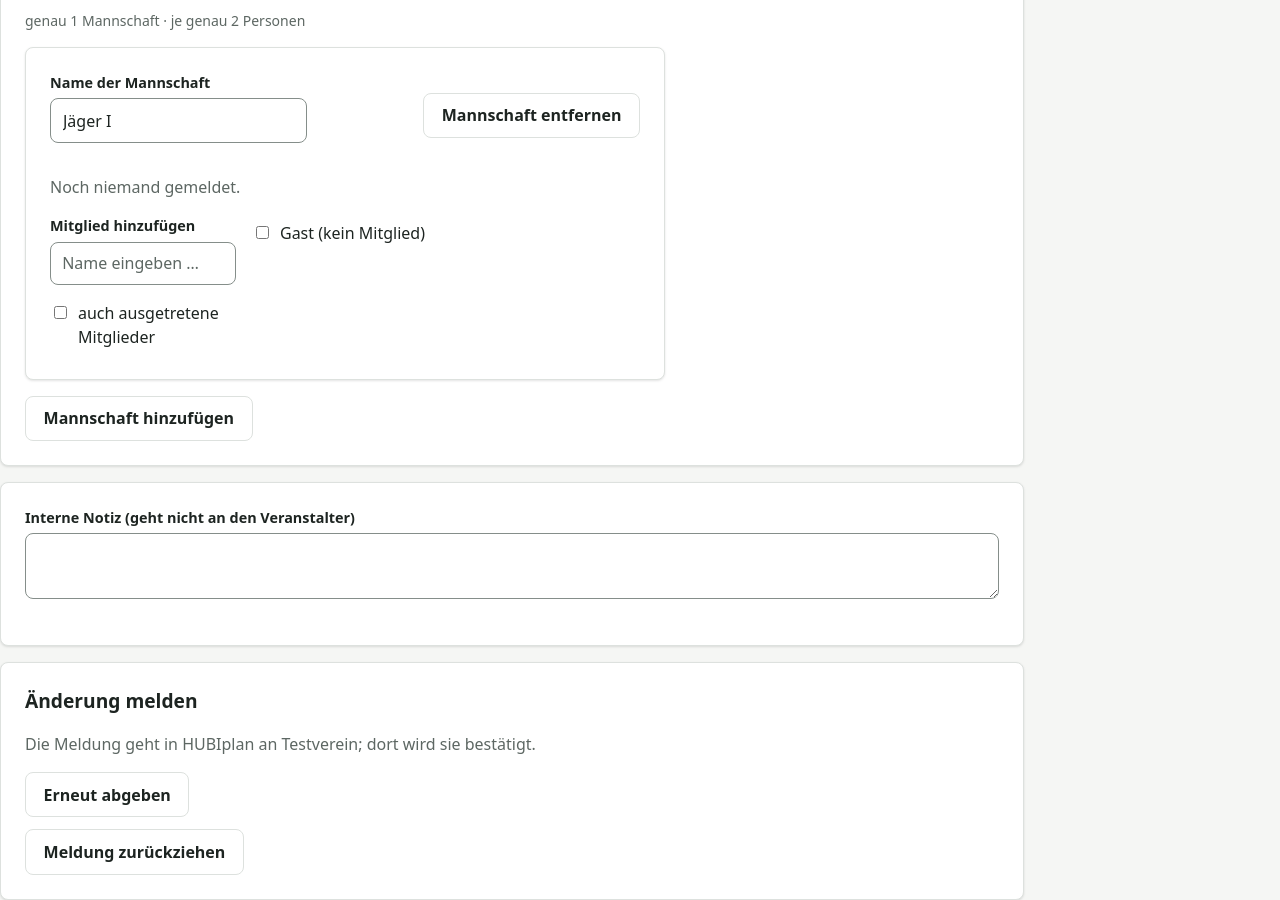
Test: Meldungen an Untereinheiten › lässt den Zug nach einer Rückfrage erneut abgeben
(page scrolled)
Click the button "Erneut abgeben" at (107, 795), box [25, 772, 190, 817]
(page scrolled)
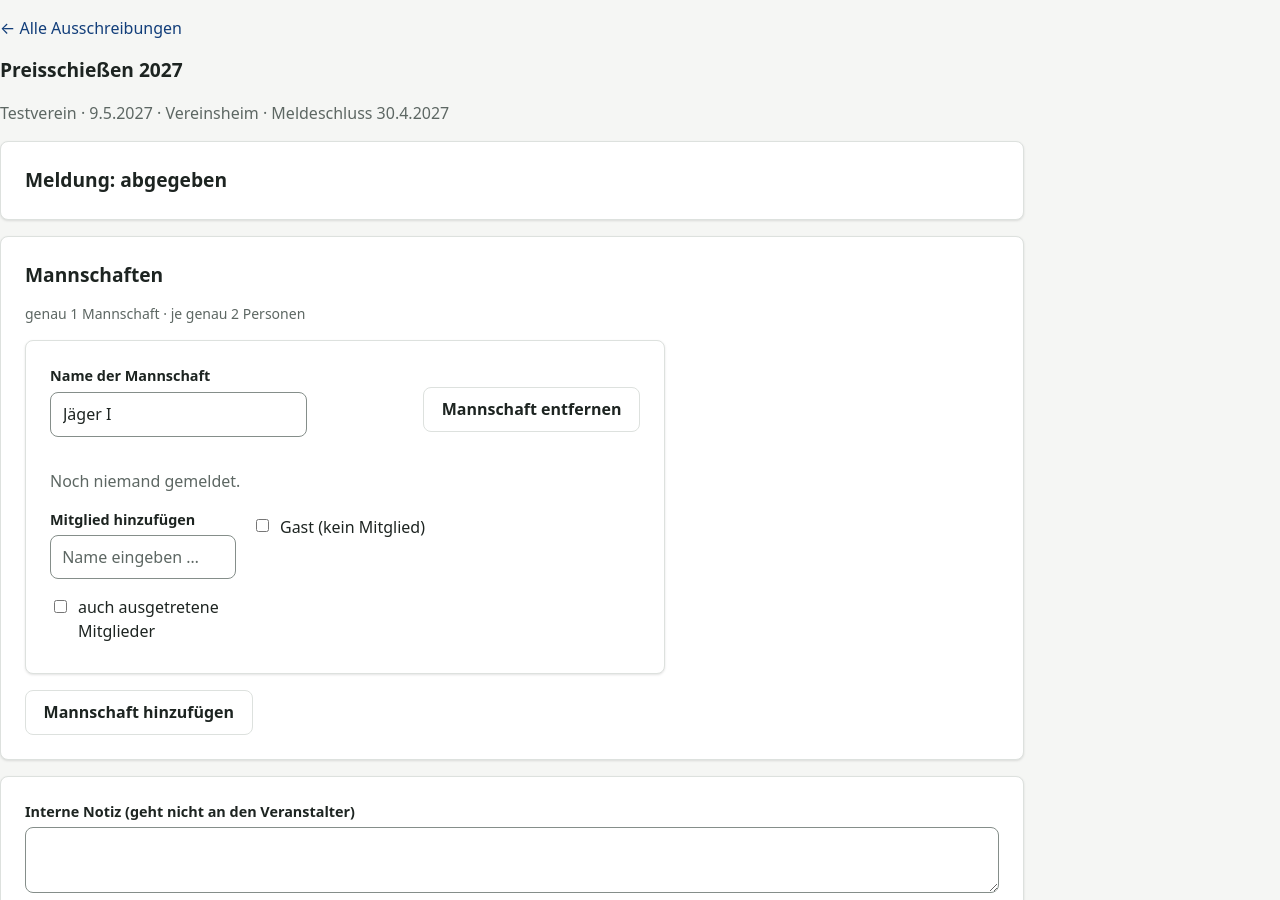
Expected: the heading "Meldung: abgegeben" is shown, [25, 166, 227, 195]
